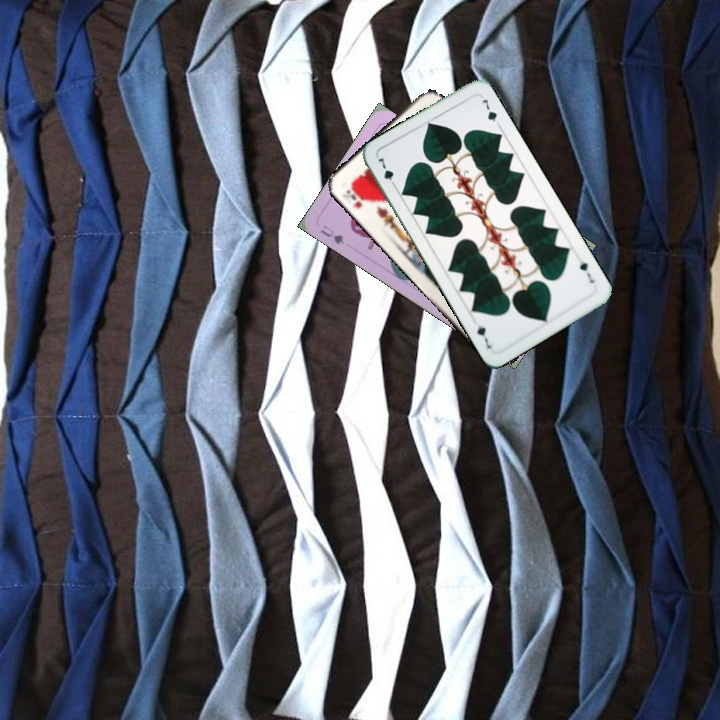G7: (374, 151, 399, 191), (575, 257, 597, 286)
GU: (316, 221, 347, 247)
HK: (342, 180, 370, 211)
